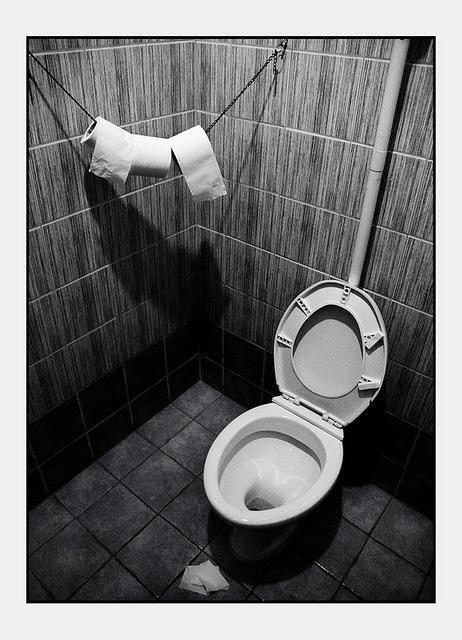Sanitario: (194, 281, 386, 556)
